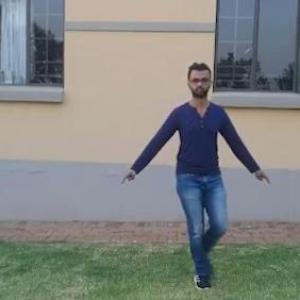land: (135, 78, 265, 258)
